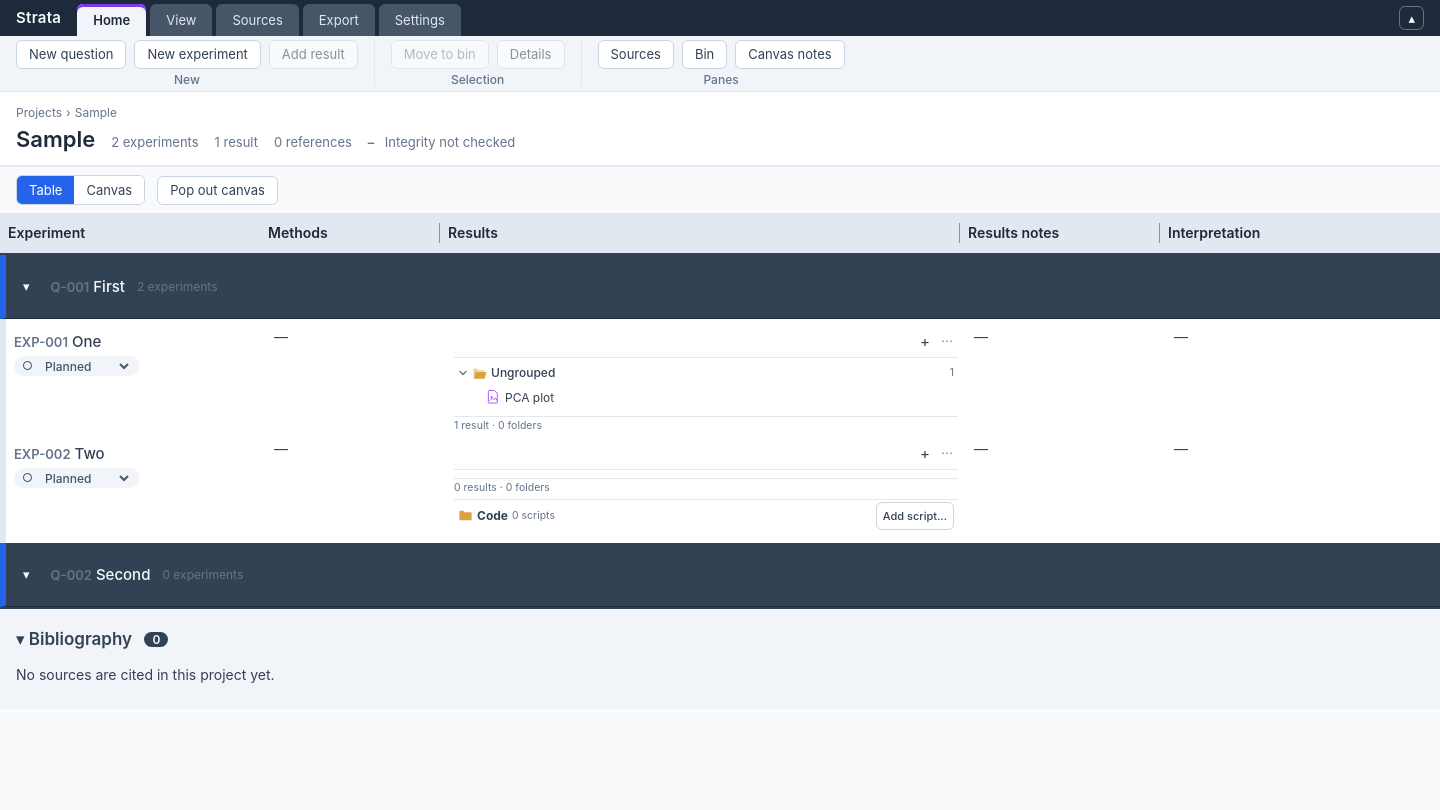
Test case: adding files in the Results cell (FR-EVD-01, FR-EVD-02) › copies a picked file and records it as a new result
The image size is (1440, 810).
Click the 1st button "+".
click(925, 341)  # box [916, 327, 934, 355]
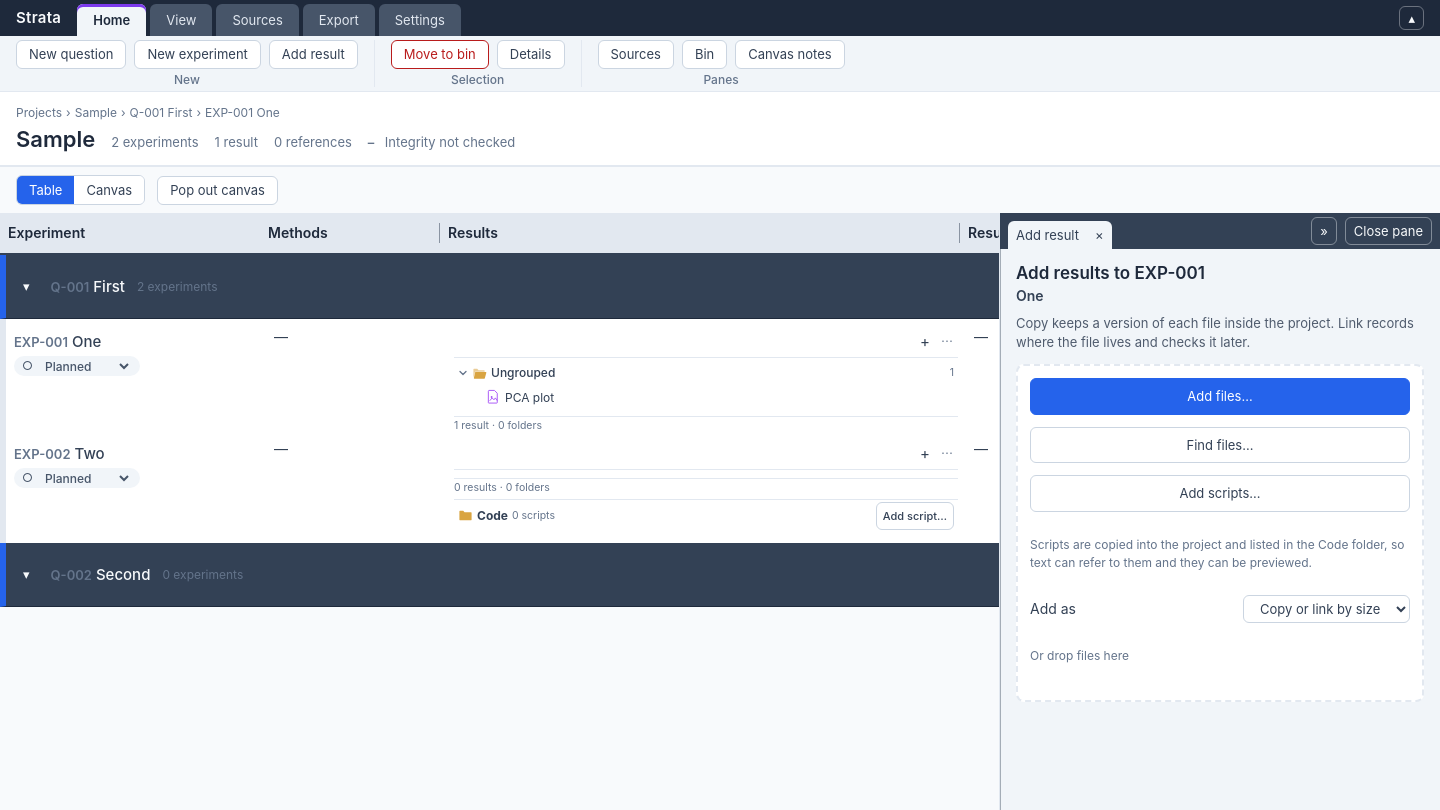
Click the button "Add files…".
click(1220, 396)  # box [1030, 378, 1410, 415]
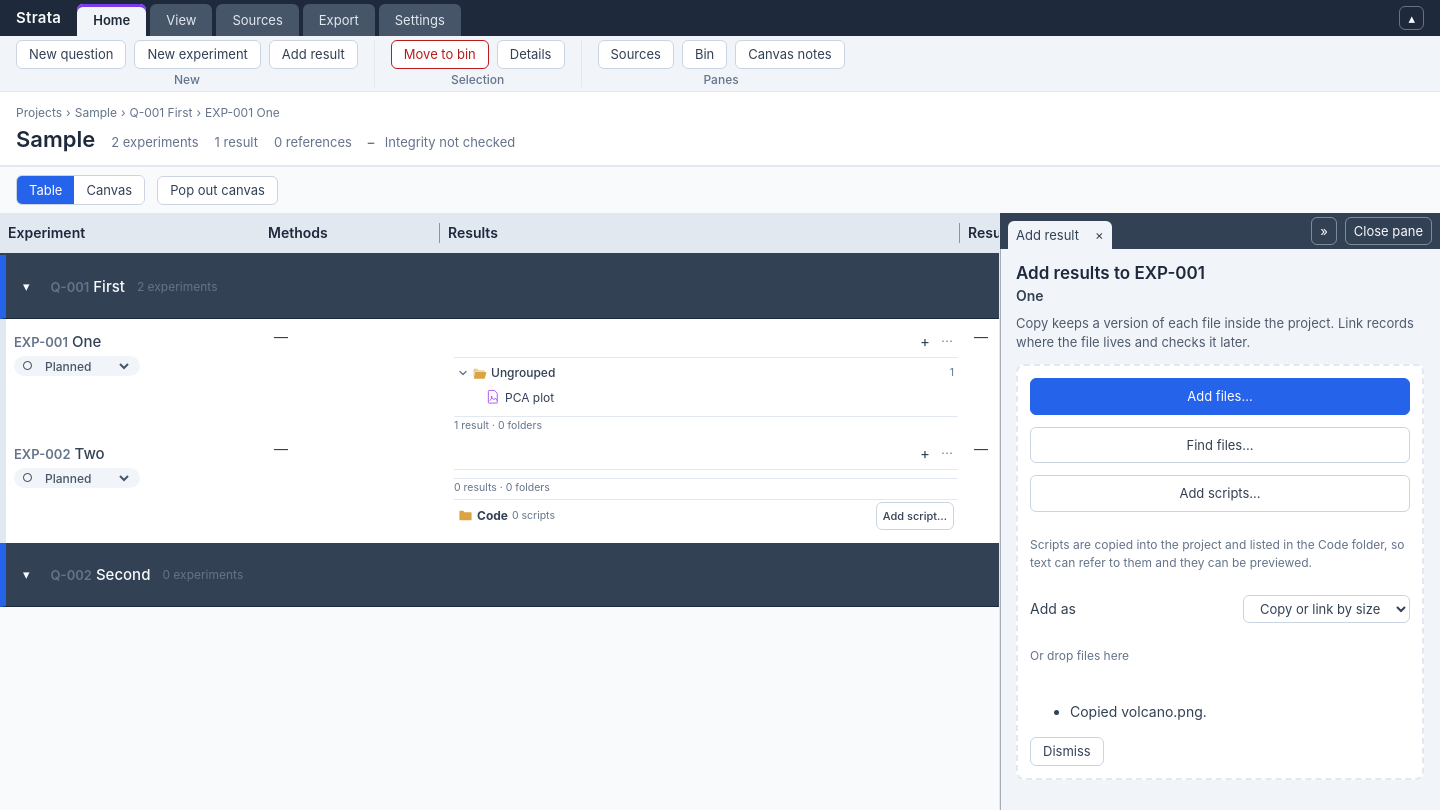
Expected: the message "Copied volcano.png. Dismiss" is shown, [1030, 704, 1207, 766]
